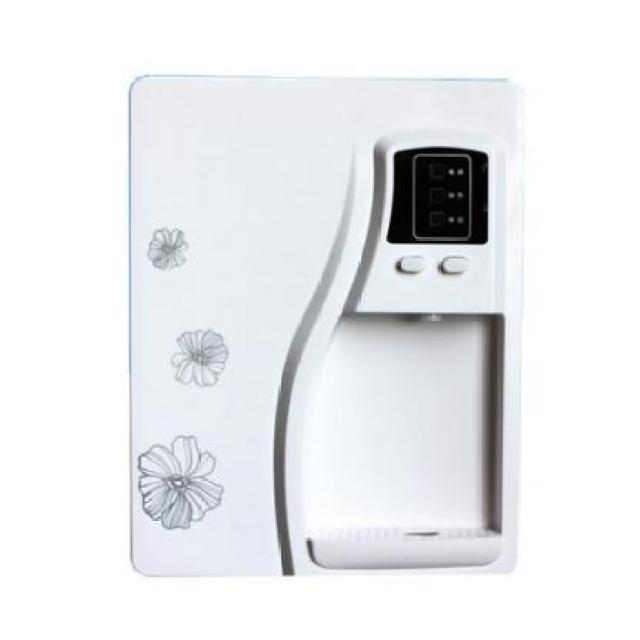cooler: (126, 74, 527, 579)
